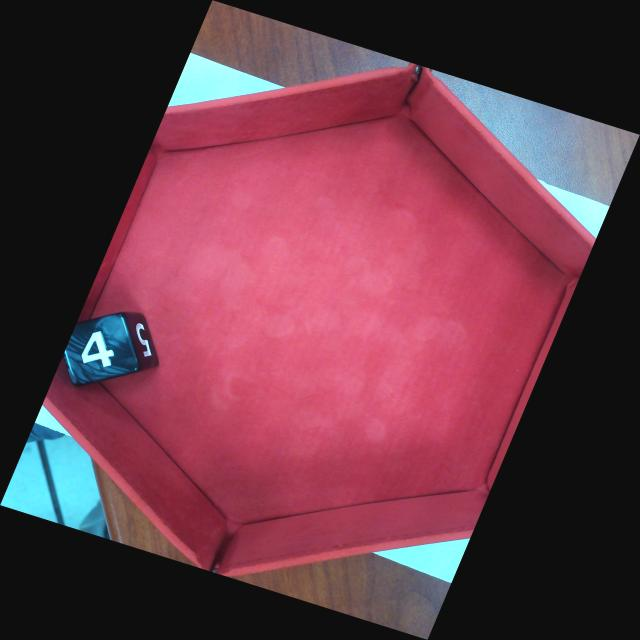dice: (68, 311, 142, 385)
